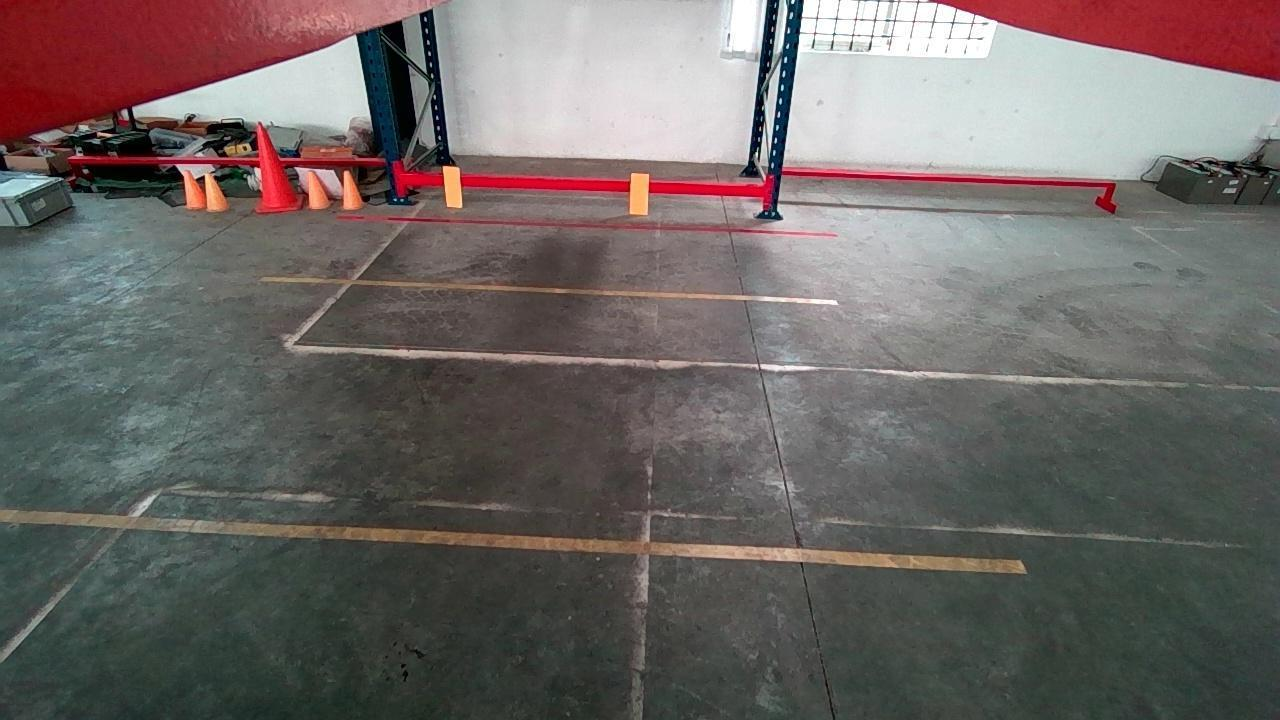h_rack: (402, 172, 770, 200)
orange_strip: (630, 173, 649, 215), (444, 166, 463, 207)
yellow_line: (0, 508, 1030, 576), (262, 274, 836, 305)
